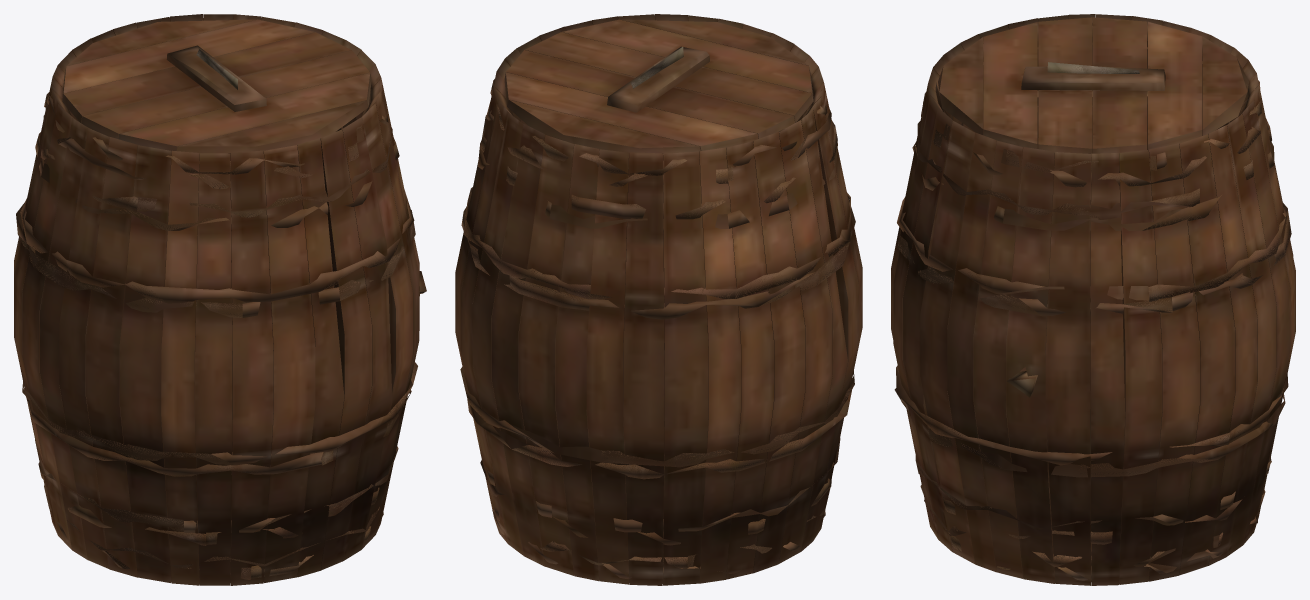
Rendered from wooden_barrels_01.glb.
3 renders of one model, left to right at view 1: azimuth 30°, elevation 25°; view 2: azimuth 150°, elevation 25°; view 3: azimuth 270°, elevation 25°, orthographic.
Parts seen in each view (by area): view 1: wooden_barrels_01_barrel01; view 2: wooden_barrels_01_barrel01; view 3: wooden_barrels_01_barrel01.
Boxes of the visible parts, bbox=[...] form: wooden_barrels_01_barrel01: bbox=[14, 14, 426, 585]; wooden_barrels_01_barrel01: bbox=[455, 14, 862, 585]; wooden_barrels_01_barrel01: bbox=[891, 14, 1295, 585].
Size of the model in its own units: 0.7381 by 0.9133 by 0.7379.
Materials: 1 (1 with a texture image).
